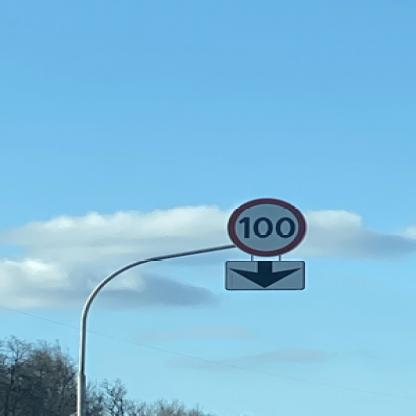speedlimit: (225, 196, 305, 256)
